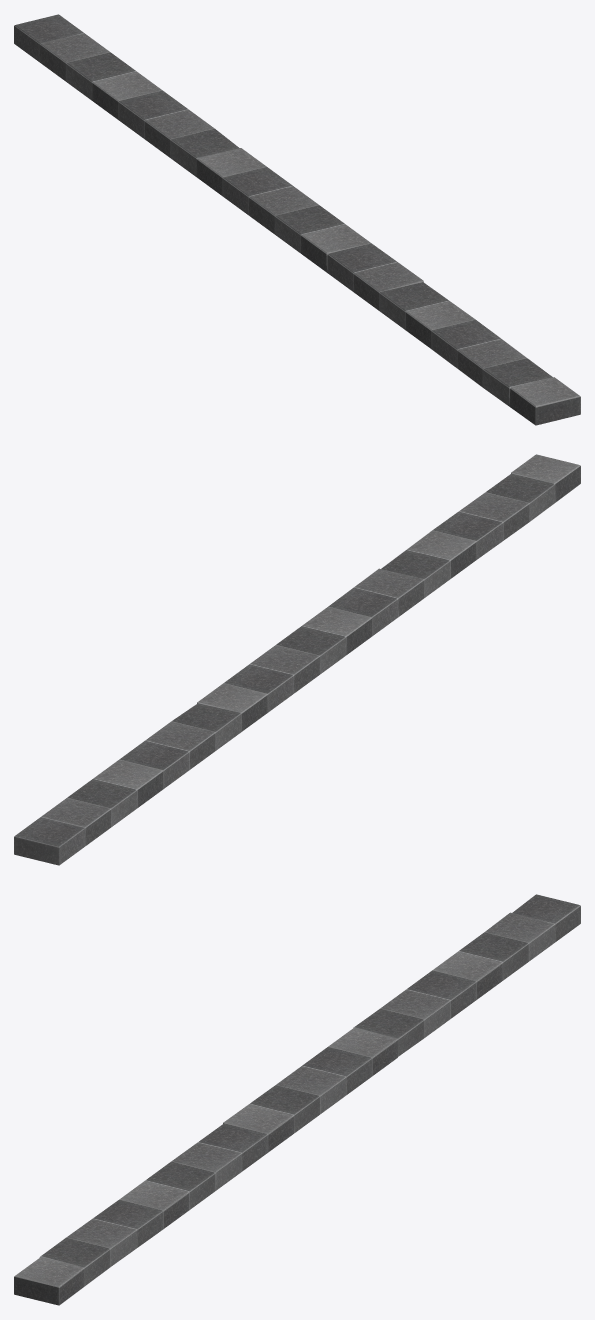
Rendered from W_M_Playground_Block1X10_L0.fbx.
3 views of the same model, one above another, from view 1: azimuth 30°, elevation 25°; view 2: azimuth 150°, elevation 25°; view 3: azimuth 330°, elevation 25° (orthographic).
Parts seen in each view (by area): view 1: W_M_Playground_Block1X10_L0; view 2: W_M_Playground_Block1X10_L0; view 3: W_M_Playground_Block1X10_L0.
Boxes of the visible parts, left/top/right/bottom form: W_M_Playground_Block1X10_L0: left=14, top=14, right=580, bottom=425; W_M_Playground_Block1X10_L0: left=14, top=454, right=580, bottom=865; W_M_Playground_Block1X10_L0: left=14, top=894, right=580, bottom=1305.
Size of the model in its own units: 0.5114 by 0.2055 by 10.
